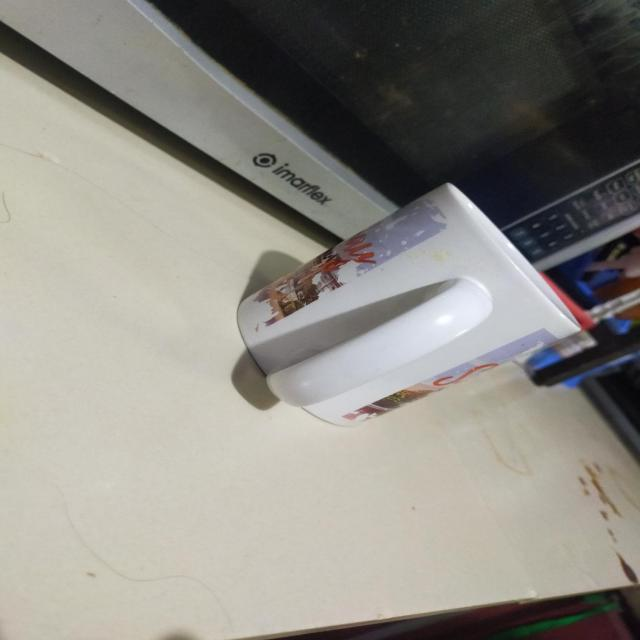taza: (237, 182, 640, 426)
